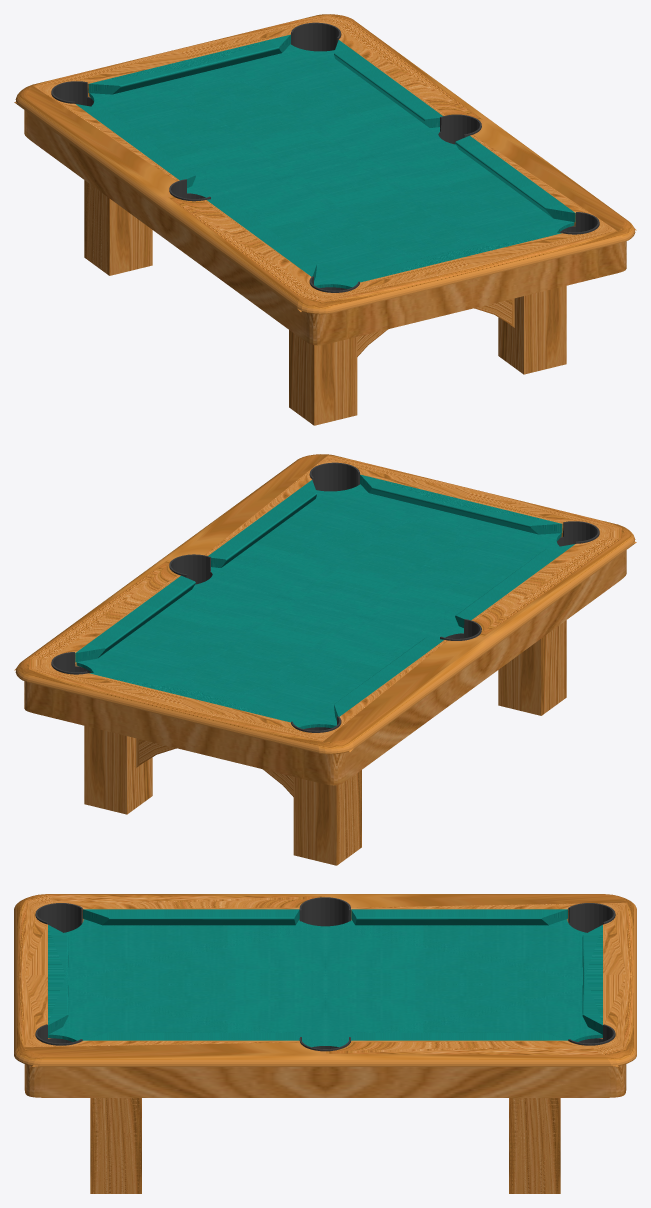
The model's file is table_test.glb.
3 views of the same model, one above another, from view 1: azimuth 30°, elevation 25°; view 2: azimuth 150°, elevation 25°; view 3: azimuth 270°, elevation 25° (orthographic). The views are drawn at different scales.
Visible parts, largest first — view 1: frame, slate, cushion, corner_pocket, side_pocket; view 2: frame, slate, cushion, corner_pocket, side_pocket; view 3: frame, slate, cushion, corner_pocket, side_pocket.
Boxes of the visible parts, bbox=[...] form: frame: bbox=[14, 14, 636, 425]; slate: bbox=[89, 44, 574, 288]; cushion: bbox=[76, 34, 575, 282]; corner_pocket: bbox=[51, 22, 599, 292]; side_pocket: bbox=[169, 114, 481, 201]; frame: bbox=[14, 454, 636, 865]; slate: bbox=[76, 484, 561, 728]; cushion: bbox=[75, 474, 574, 722]; corner_pocket: bbox=[51, 462, 599, 732]; side_pocket: bbox=[169, 554, 481, 640]; frame: bbox=[14, 894, 636, 1193]; slate: bbox=[48, 919, 602, 1047]; cushion: bbox=[48, 909, 602, 1040]; corner_pocket: bbox=[35, 903, 615, 1045]; side_pocket: bbox=[299, 897, 350, 1051].
Bounding box in the file's own units: 1.6 × 0.6995 × 2.51.
3 materials, 2 textured.
